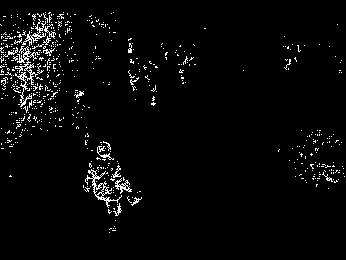person: (82, 139, 142, 232), (144, 61, 157, 106), (126, 57, 139, 96)
